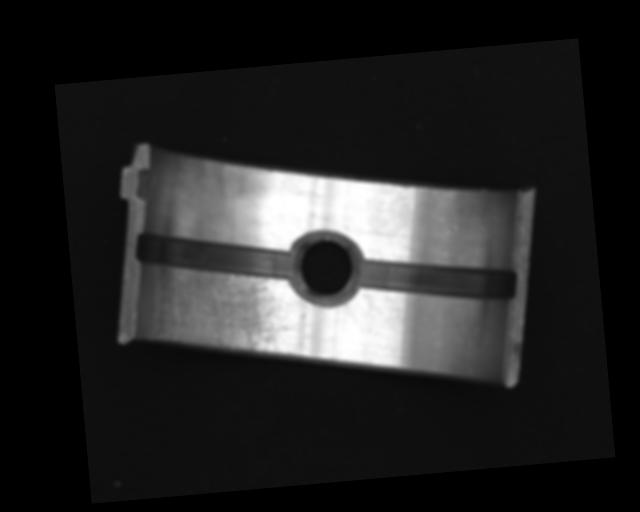gap: (131, 218, 296, 294), (360, 247, 520, 312)
hole: (285, 232, 361, 302)
scratch: (136, 254, 292, 365)
